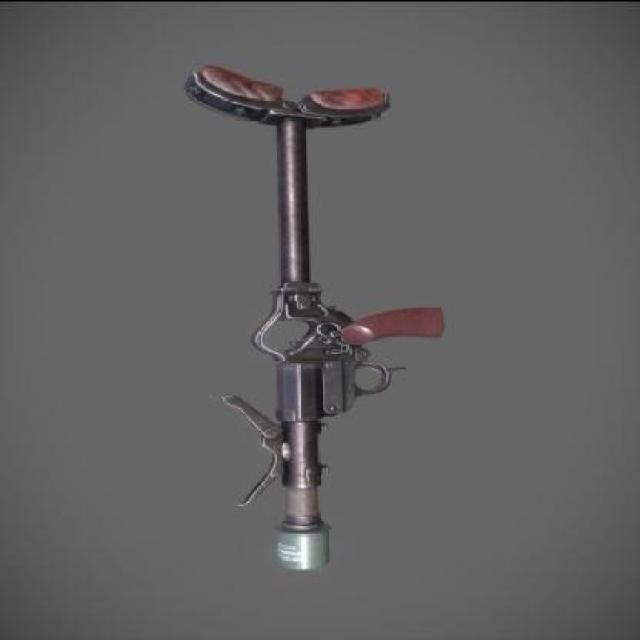weapon: (182, 62, 445, 571)
